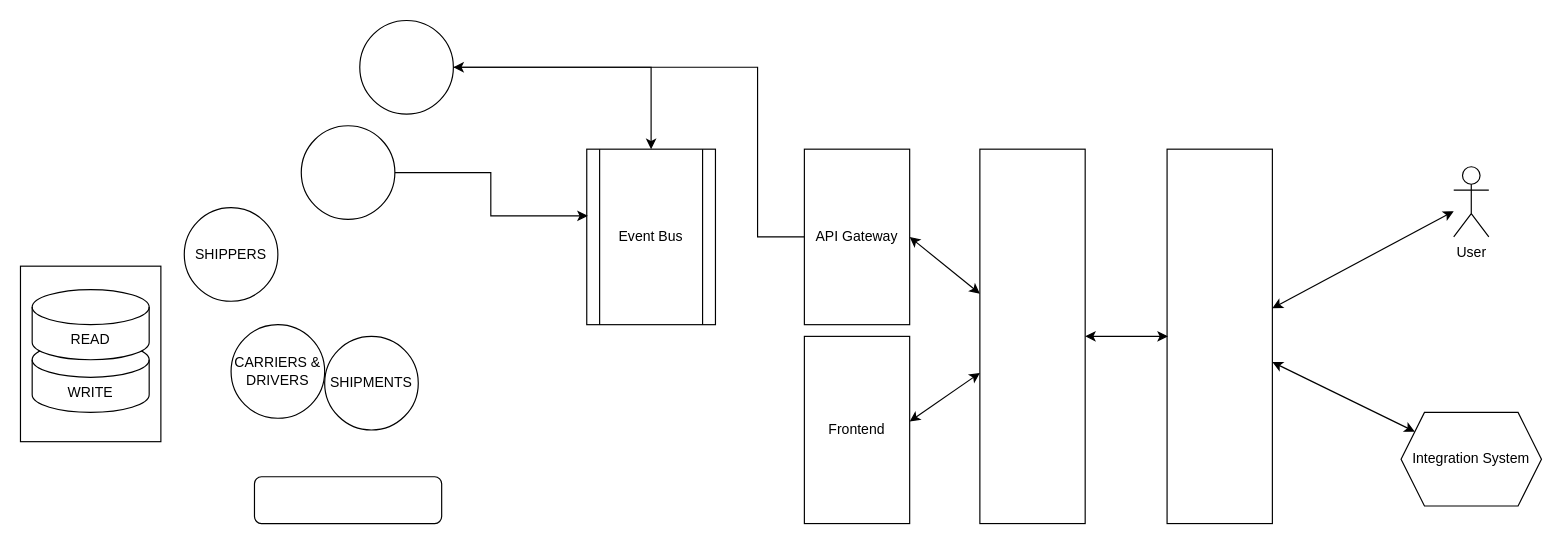
Some shapes in this 1562 by 544 pixel diagram are drawn without their labels. Each missing label, with the centre of its shape:
"CACHE" goes at pixel 347 500.
"Load Balancer" goes at pixel 1032 336.
"ORDERS & QUOTE" goes at pixel 406 66.
"PAYMENTS" goes at pixel 347 172.
"WAF (webapplication firewall)" goes at pixel 1219 336.
